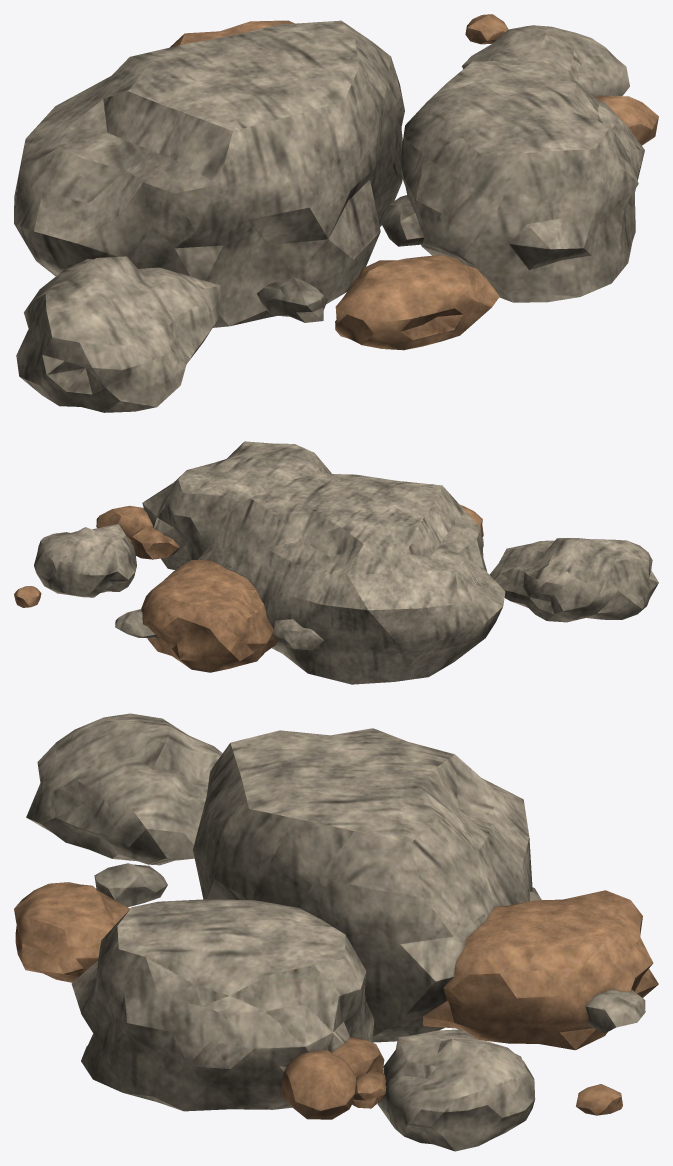
The model's file is rock_cluster.glb.
3 views of the same model, one above another, from view 1: azimuth 30°, elevation 25°; view 2: azimuth 150°, elevation 25°; view 3: azimuth 270°, elevation 25° (orthographic). The views are drawn at different scales.
Parts seen in each view (by area): view 1: Rocks; view 2: Rocks; view 3: Rocks.
Part boxes in pixels (x1,y1,x2,y2): Rocks: (14, 14, 658, 412); Rocks: (14, 441, 658, 684); Rocks: (14, 713, 658, 1151).
Bounding box in the file's own units: 6.31 × 1.58 × 4.63.
1 material, 1 textured.
